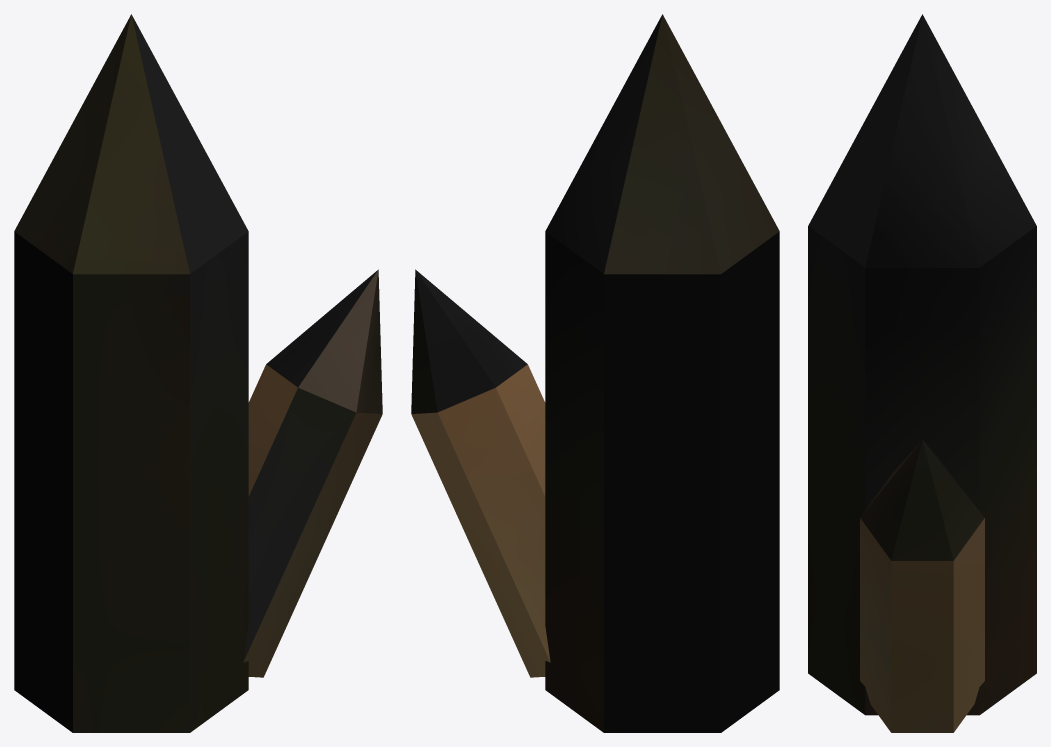
File: SM_Fuel_Crystal.fbx
3 renders of one model, left to right at view 1: azimuth 30°, elevation 25°; view 2: azimuth 150°, elevation 25°; view 3: azimuth 270°, elevation 25°, orthographic. The views are drawn at different scales.
Parts seen in each view (by area): view 1: SM_Fuel_Crystal; view 2: SM_Fuel_Crystal; view 3: SM_Fuel_Crystal.
Boxes of the visible parts, left/top/right/bottom form: SM_Fuel_Crystal: left=14, top=14, right=382, bottom=732; SM_Fuel_Crystal: left=411, top=14, right=779, bottom=732; SM_Fuel_Crystal: left=808, top=14, right=1036, bottom=732.
Size of the model in its own units: 7.26 by 14.09 by 4.4.
Materials: 1 (1 with a texture image).
